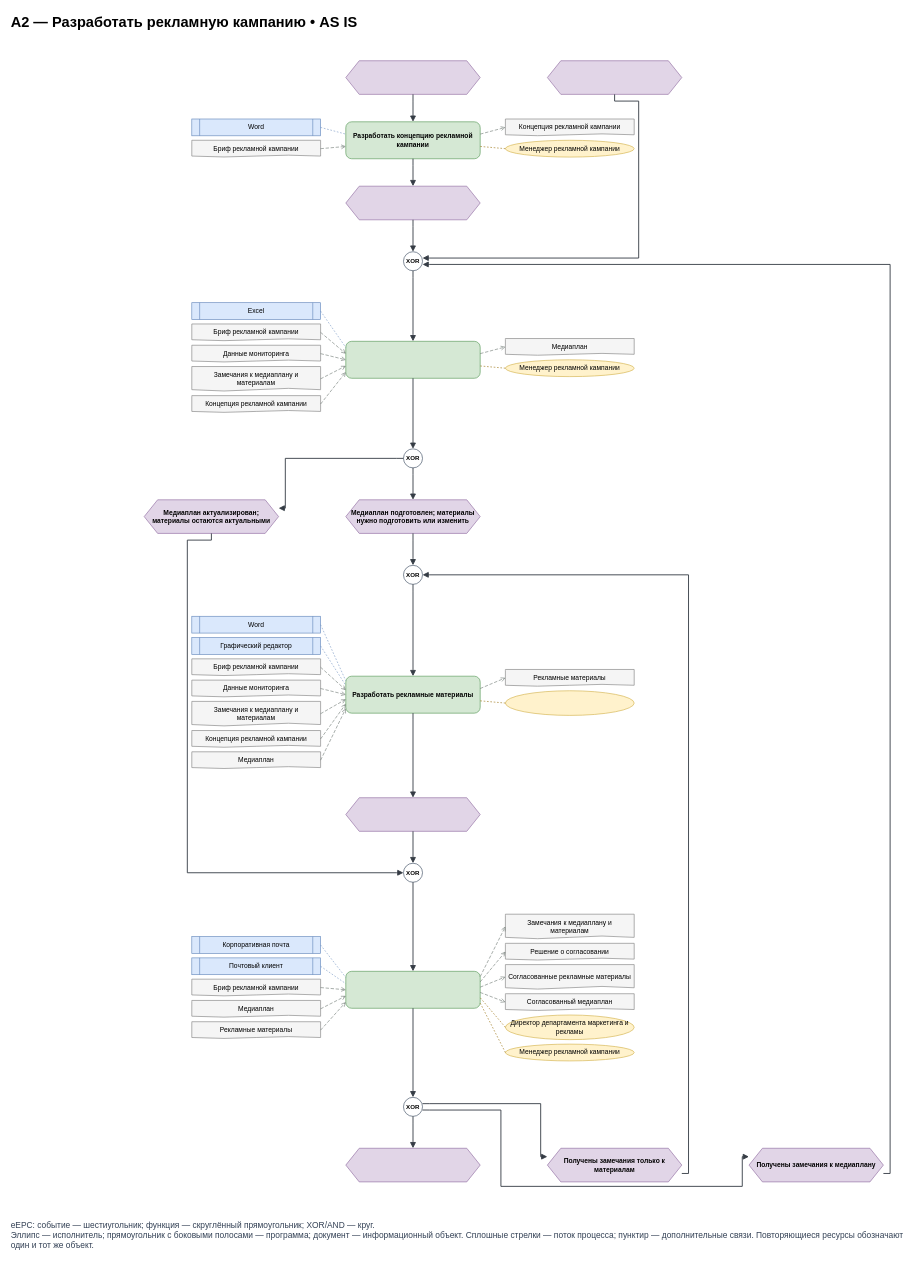
Some shapes in this 915 by 1265 pixel diagram are drawn without their labels. The centre of each missing label's shape, as x and y in pixels:
"Бриф рекламной кампании сформирован" goes at (x=412, y=77).
"Концепция рекламной кампании подготовлена" goes at (x=412, y=203).
"Медиаплан и рекламные материалы согласованы" goes at (x=412, y=1165).
"Рекламные материалы подготовлены" goes at (x=412, y=814).
"Согласовать рекламную кампанию" goes at (x=412, y=989).
"Специалист по разработке рекламных материалов" goes at (x=569, y=702).
"Сформировать медиаплан" goes at (x=412, y=359).
"Требуется повторное согласование изменённых условий" goes at (x=614, y=77).
